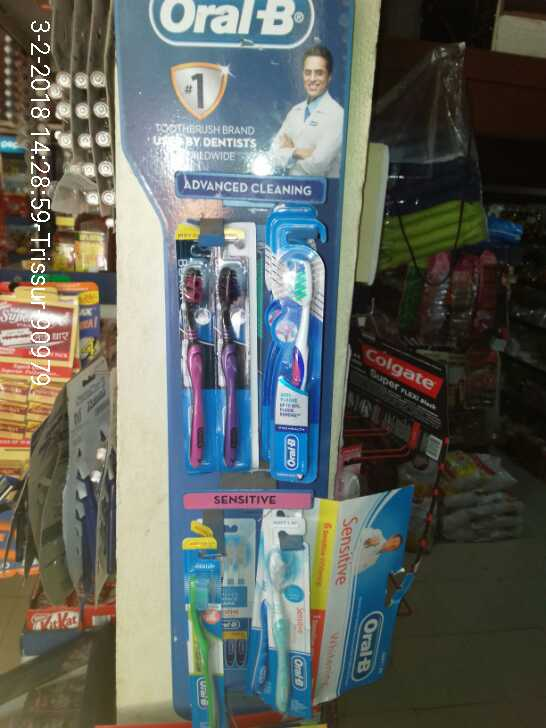oralb: (254, 542, 318, 713), (266, 253, 315, 472), (176, 254, 214, 470), (214, 257, 251, 466), (180, 560, 225, 728)
